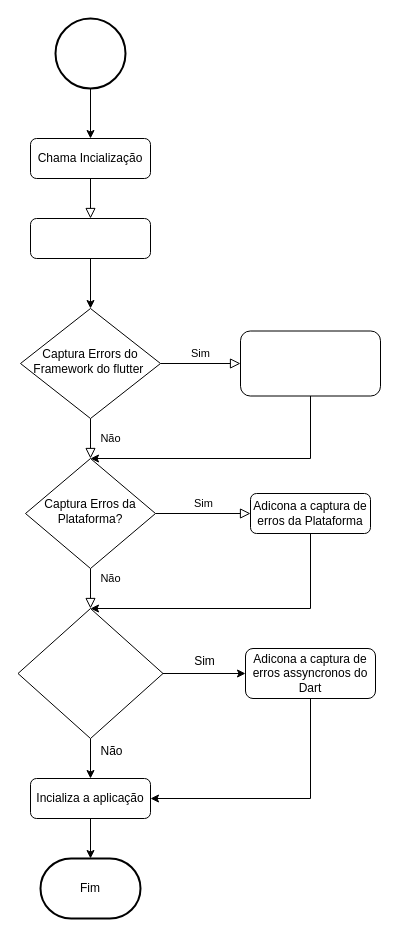
This 398x936 diagram has some shape labels left out. The centre of each missing label's shape, as x and y in pixels:
"Adiciona os Resporters" belongs at pixel 90 238.
"Adicona a captura de erros do Framework do Flutter" belongs at pixel 310 363.
"Captura Erros assyncronos do Dart?" belongs at pixel 90 673.
"Começo" belongs at pixel 90 53.
